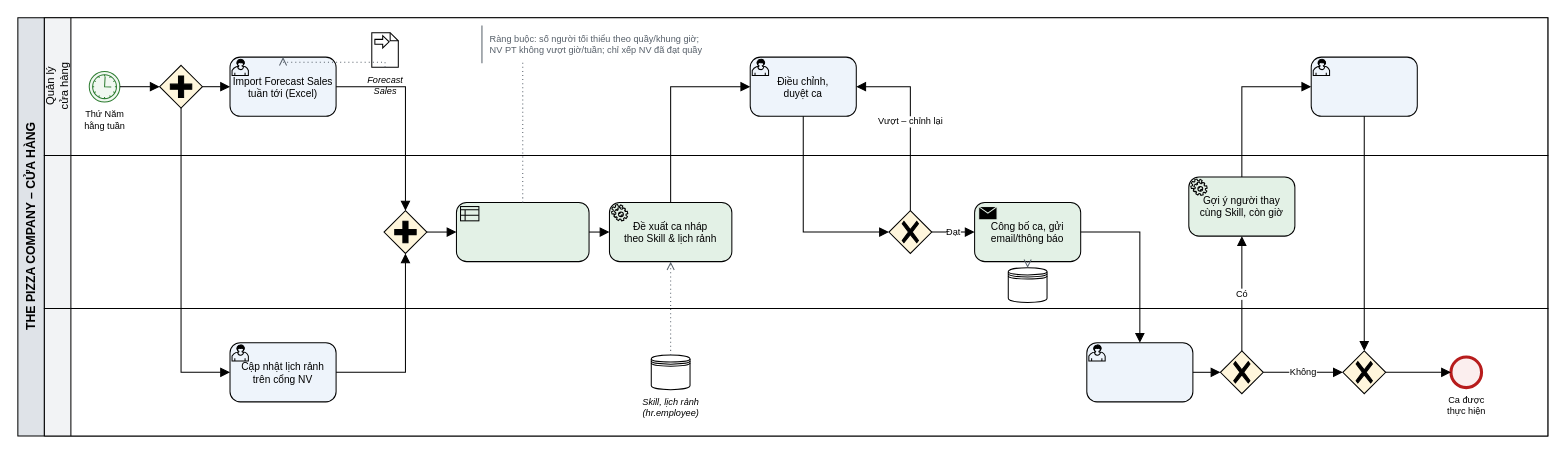
Image size: 1566x454. Some labels were removed from this diagram. Here are the shapes that lost their labels. From the top down, the box of each, then its label:
(1310, 56, 1417, 116): Duyệt yêu cầu đổi ca
(455, 201, 589, 262): Tính giờ cần/ngày = max(FS ÷ 330k, tối thiểu)
(43, 155, 1548, 309): Hệ thống Odoo (tpc_labour_planning)
(888, 210, 932, 253): %COL dự kiến ≤ 13,65%?
(43, 308, 1548, 436): Nhân viên (FT/PT)
(1086, 342, 1193, 402): Xem "Ca của tôi" trên điện thoại
(1219, 350, 1263, 394): Cần đổi ca?
